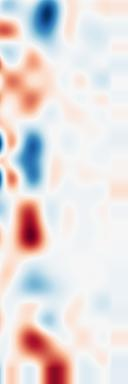filament: (17, 319, 79, 383), (8, 190, 55, 261)
